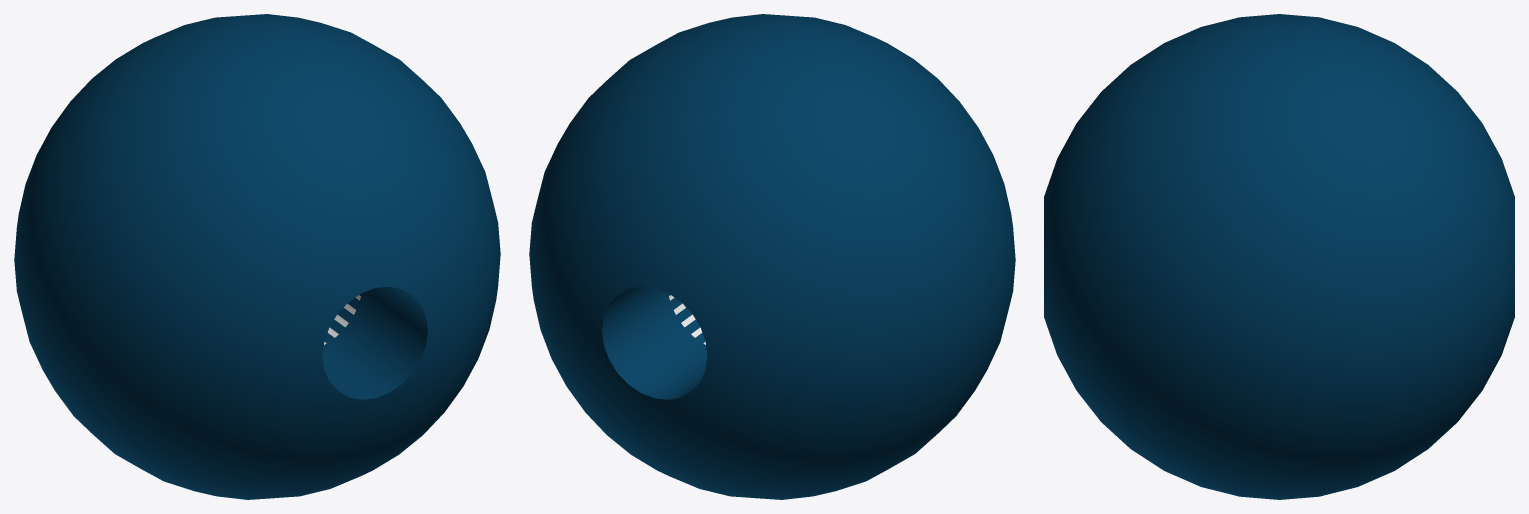
The model's file is 100ball25hole.glb.
3 renders of one model, left to right at view 1: azimuth 30°, elevation 25°; view 2: azimuth 150°, elevation 25°; view 3: azimuth 270°, elevation 25°, orthographic.
Visible parts, largest first — view 1: Body10; view 2: Body10; view 3: Body10.
Boxes of the visible parts, <box> form: Body10: <box>14,14,500,499</box>; Body10: <box>529,14,1015,499</box>; Body10: <box>1044,14,1514,499</box>.
Bounding box in the file's own units: 0.1 × 0.0997 × 0.0968.
